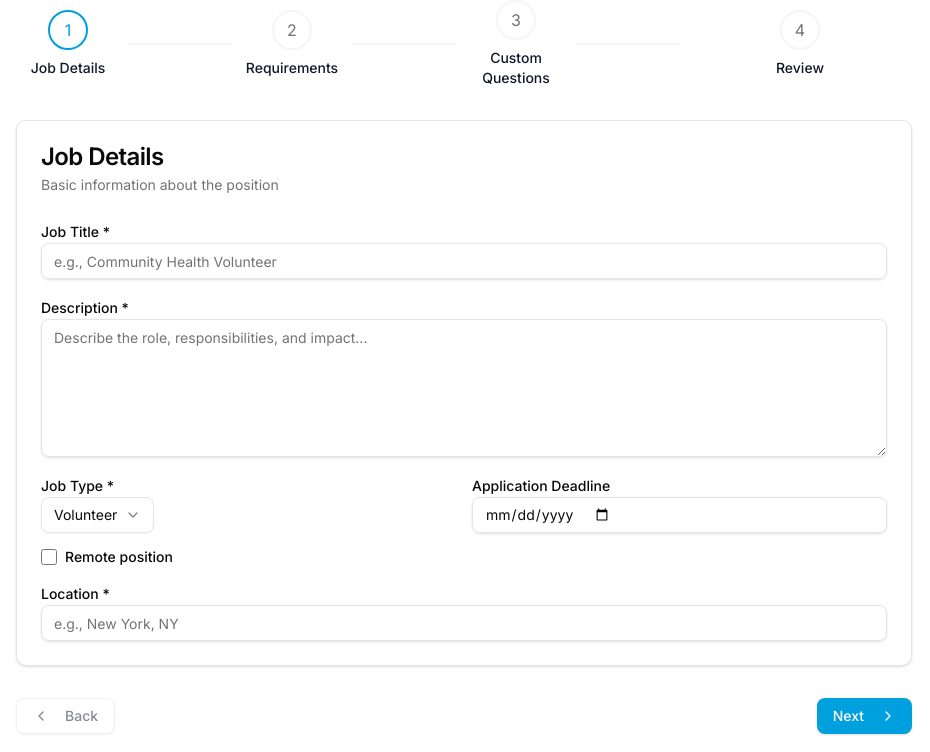
JobForm › Step Navigation › allows going back to previous step
# Fill details and go to step 2
Type "Community Volunteer" into the field labelled "Job Title *". click: [464, 261]
box: [41,243,887,279]
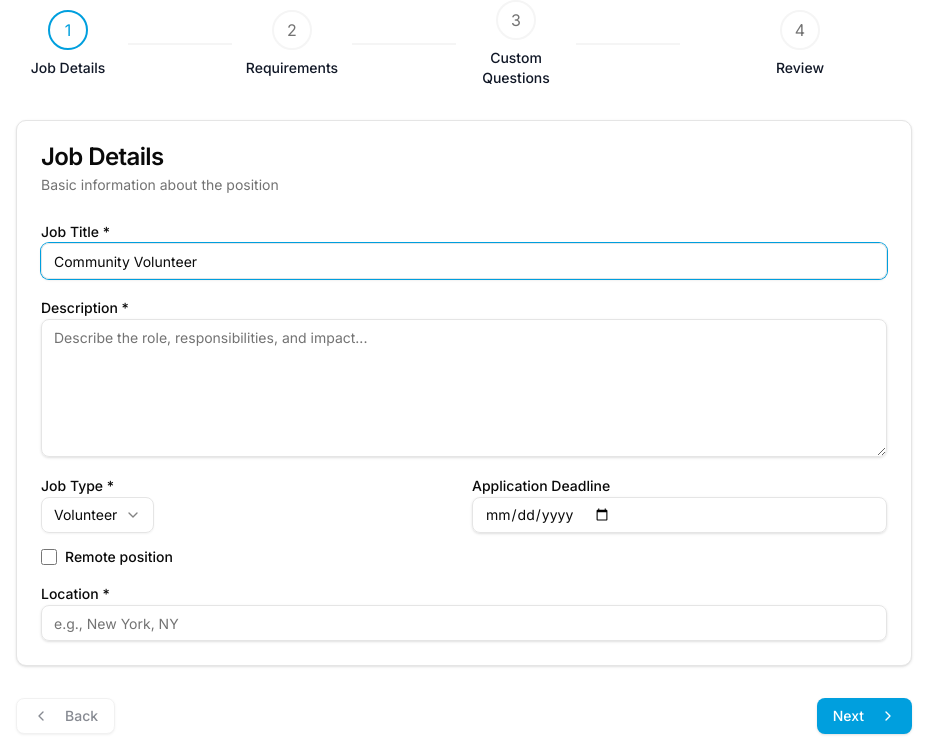
Type "Help our community" into the text box labelled "Description *". click: [464, 388]
box: [41,319,887,457]
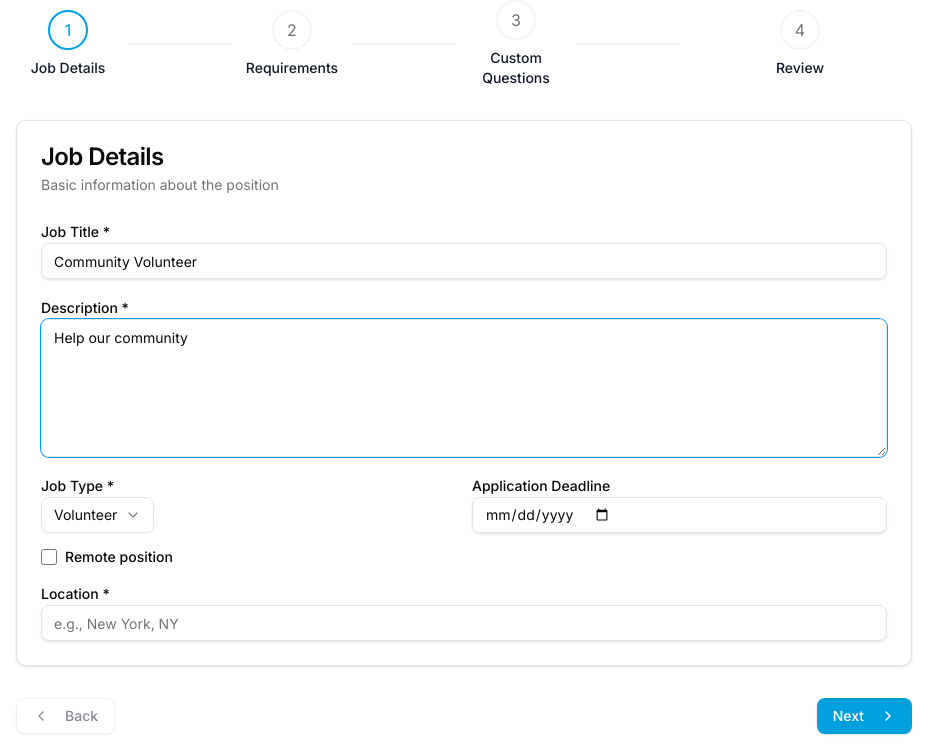
Click the checkbox labelled "Remote position". click: [49, 557]
box: [41,549,57,565]
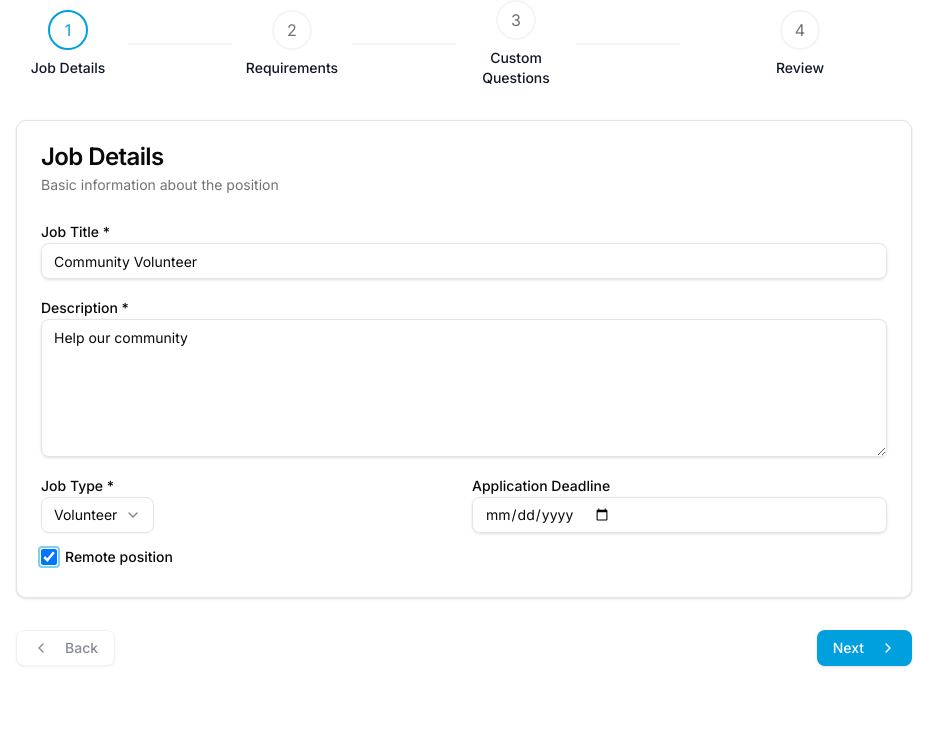
Click the button "Next". click: [864, 648]
box: [817,630,912,666]
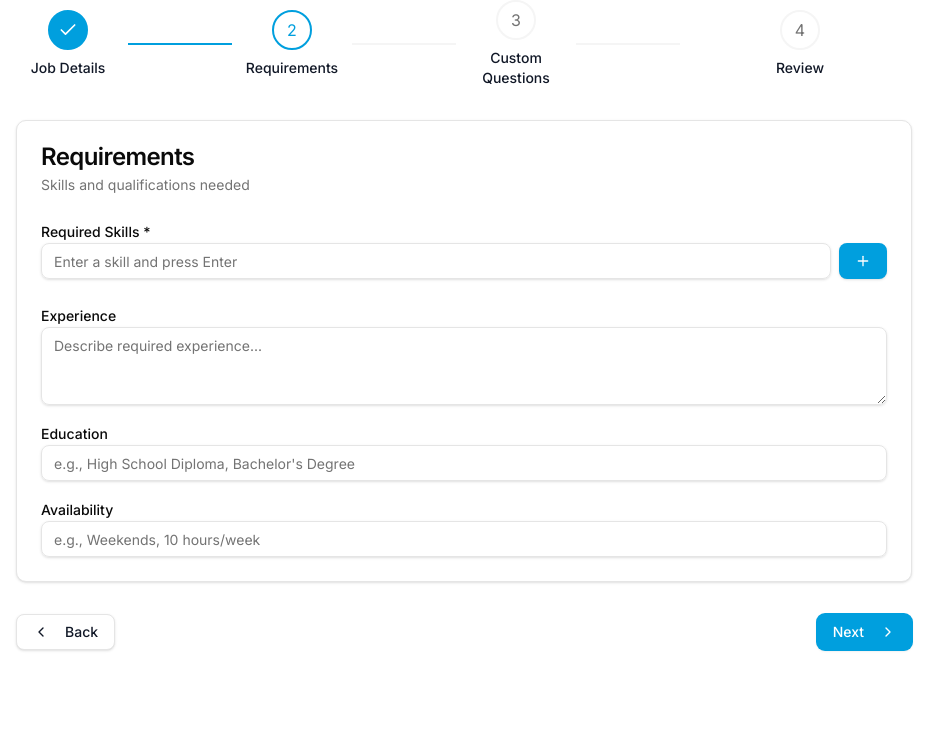
#  Go back
Click the button "Back". click: [66, 632]
box: [16,614,115,650]
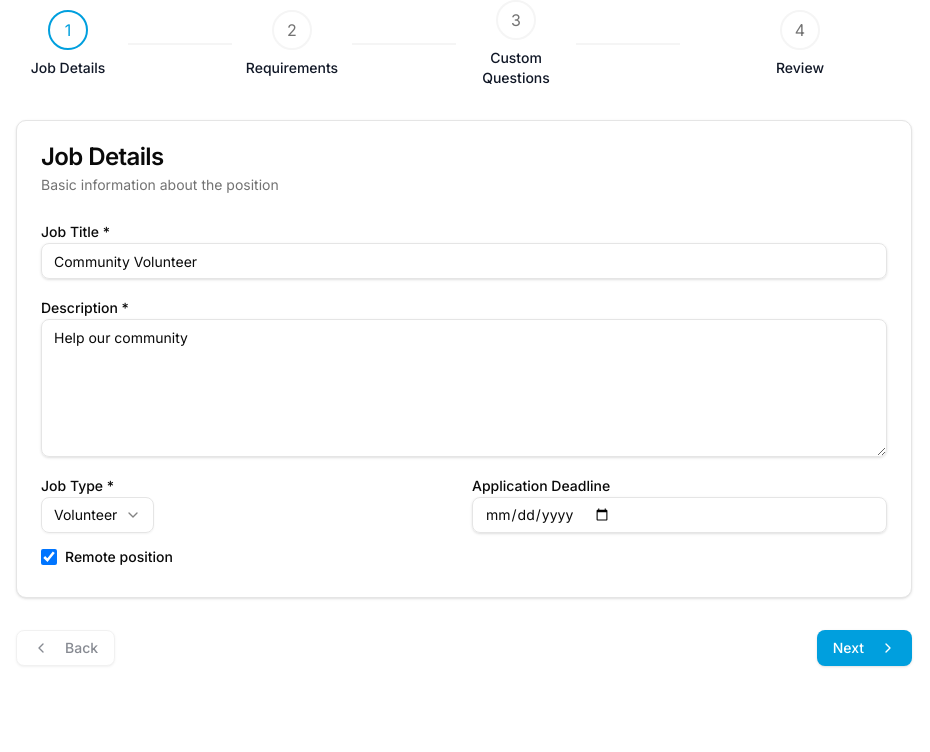
Now the field labelled "Job Title *" holds "Community Volunteer", box [41,243,887,279]
